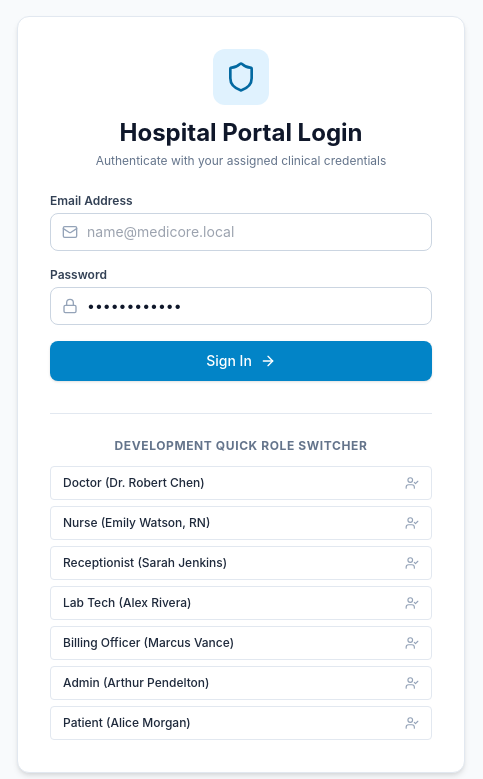
Frontend Login Page & Role Selection (MC-01) › displays API error message on invalid credentials
This screenshot has width=483, height=779.
In the field labelled "Email Address": x=241, y=232 [50, 213, 432, 251], type "wrong@medicore.local"
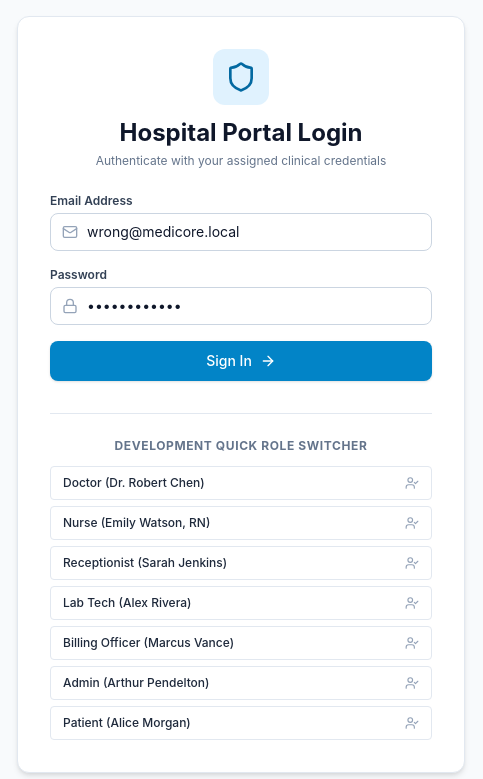
Click the button "Sign In": x=241, y=361 [50, 341, 432, 381]
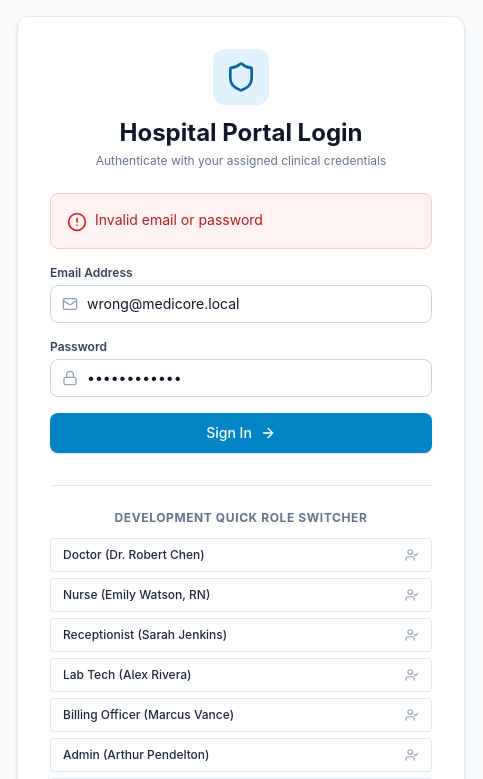
Result: the text "Invalid email or password" is shown at [95, 210, 263, 230]
